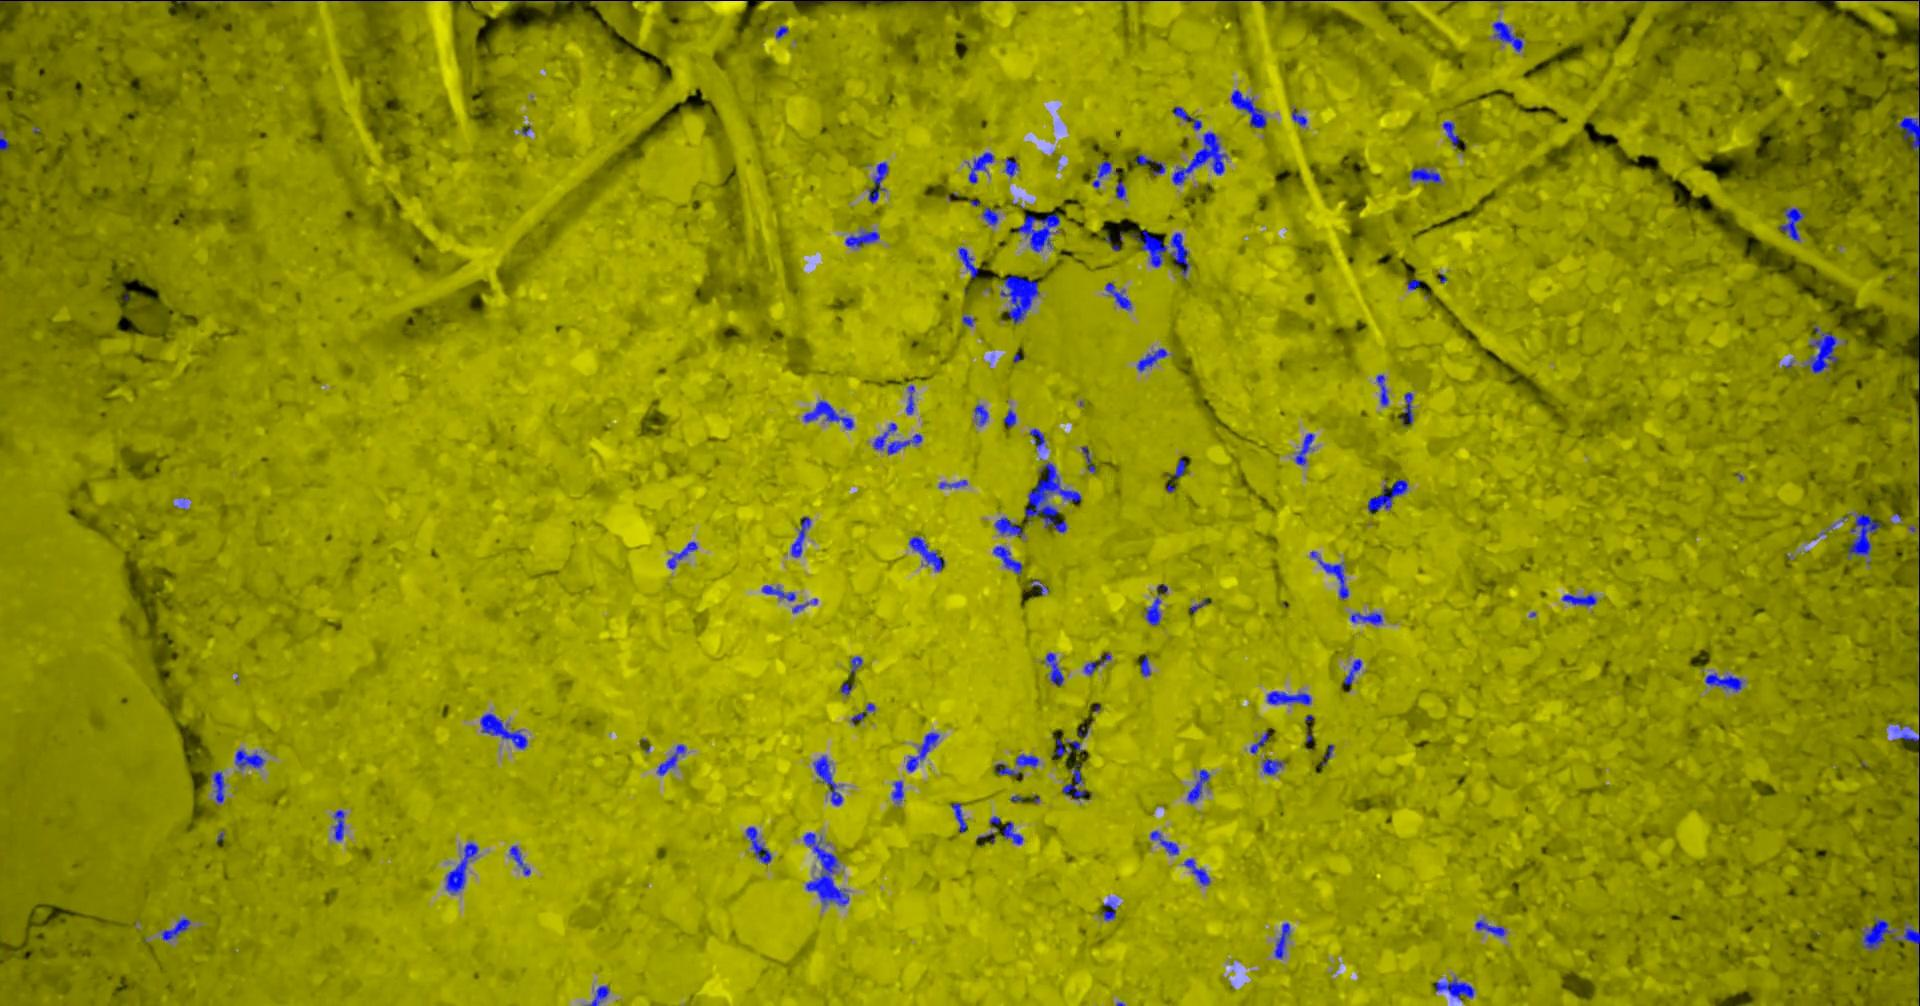ant: (1171, 131, 1225, 184), (1310, 551, 1349, 600), (1001, 274, 1037, 323), (479, 713, 527, 748), (444, 842, 477, 893), (1017, 213, 1059, 251), (872, 422, 921, 453), (1848, 513, 1881, 559), (803, 400, 853, 429), (813, 754, 842, 805), (1368, 479, 1407, 514), (1804, 332, 1837, 373), (1230, 89, 1266, 127), (1131, 229, 1166, 267), (905, 732, 938, 771), (908, 536, 943, 572), (1062, 763, 1090, 799), (1435, 976, 1474, 1000), (745, 826, 771, 862), (1492, 22, 1523, 51), (1862, 917, 1890, 949), (1145, 584, 1167, 625), (1898, 116, 1919, 158), (790, 516, 810, 558), (992, 545, 1022, 573), (657, 744, 684, 775), (1778, 207, 1803, 240), (1170, 232, 1189, 276), (667, 541, 697, 568), (869, 161, 888, 203), (1186, 768, 1209, 803), (1103, 281, 1131, 309), (968, 152, 993, 183), (1182, 857, 1209, 885), (1172, 105, 1201, 130), (1137, 348, 1167, 371), (1704, 673, 1742, 691), (1150, 829, 1178, 854), (161, 917, 190, 940), (957, 246, 978, 278), (1137, 152, 1164, 175), (1294, 433, 1314, 464), (509, 845, 530, 875), (1083, 652, 1110, 674), (994, 516, 1023, 536), (1045, 652, 1063, 685), (1051, 738, 1082, 757), (234, 749, 264, 768), (761, 584, 795, 601), (1266, 691, 1310, 704), (850, 702, 875, 724), (950, 801, 968, 832), (1274, 922, 1289, 958), (1408, 166, 1440, 183), (844, 231, 879, 246), (1092, 160, 1111, 187), (1476, 920, 1505, 936), (1399, 391, 1413, 426), (1002, 821, 1022, 843), (1250, 729, 1269, 753), (1343, 658, 1361, 683), (210, 771, 223, 803), (587, 984, 608, 1005), (1895, 723, 1919, 741), (1561, 593, 1596, 605), (791, 598, 817, 614), (1081, 446, 1095, 473), (1443, 121, 1458, 145), (1377, 373, 1388, 405), (1350, 612, 1382, 624), (1029, 428, 1046, 448), (333, 809, 344, 840), (973, 404, 988, 426), (1262, 758, 1283, 774), (993, 763, 1018, 775), (1004, 156, 1018, 177), (982, 207, 998, 224), (1101, 901, 1115, 920), (1015, 754, 1037, 766), (891, 780, 903, 803), (905, 385, 914, 414), (938, 479, 968, 488), (1031, 579, 1048, 594), (1903, 927, 1919, 942), (1291, 108, 1305, 124), (1140, 655, 1150, 676), (850, 655, 861, 673), (1175, 459, 1185, 478), (1003, 409, 1015, 426), (1115, 180, 1125, 198), (775, 25, 787, 38), (1407, 278, 1420, 290), (0, 135, 8, 151), (1683, 0, 1735, 1)
